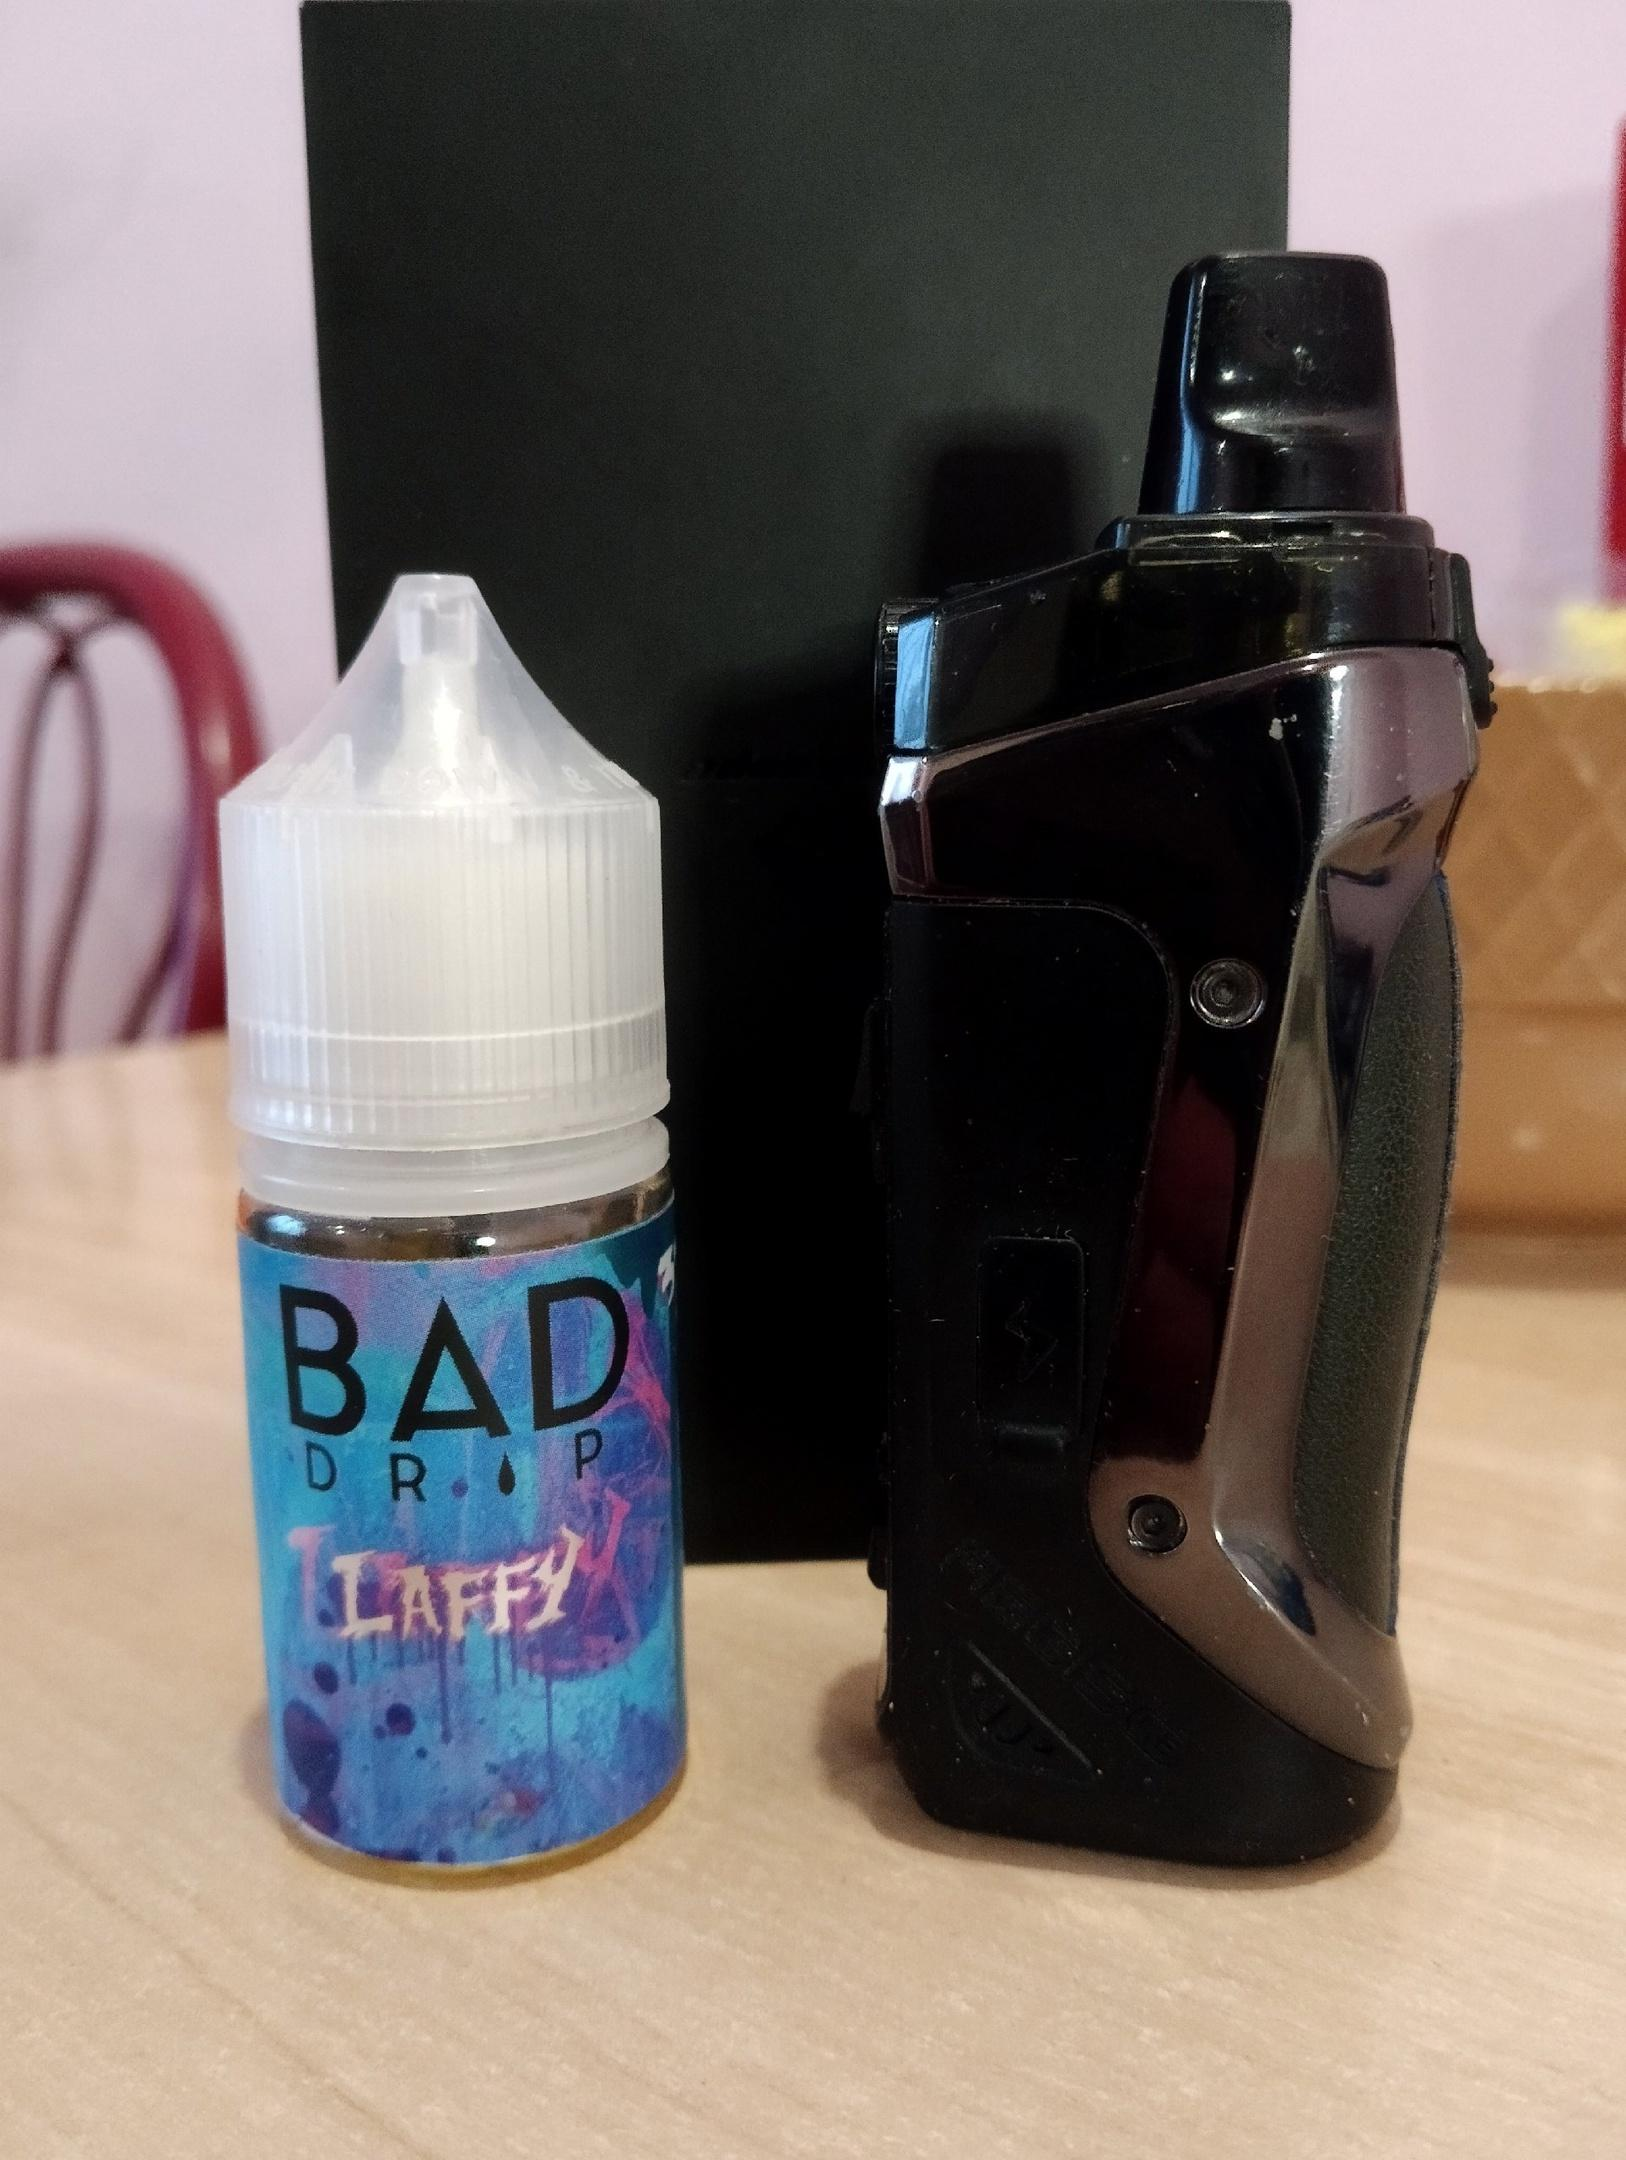Vape: (864, 253, 1494, 1859)
